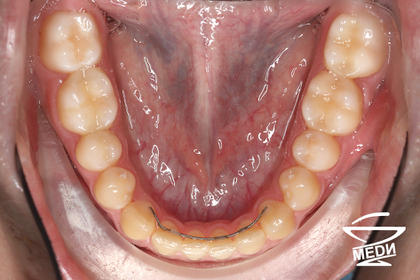LL1BC_healthy: (279, 169, 319, 210)
LL1M_healthy: (303, 73, 362, 134)
LL2BC_healthy: (293, 131, 341, 169)
LL2M_healthy: (325, 15, 384, 75)
LLCI_decay: (209, 229, 234, 261)
LLC_decay: (259, 202, 294, 239)
LLLI_decay: (234, 217, 264, 257)
LR1BC_healthy: (95, 167, 136, 208)
LR1M_healthy: (59, 68, 117, 133)
LR2BC_healthy: (76, 132, 121, 170)
LR2M_healthy: (41, 11, 100, 69)
LRCI_decay: (184, 231, 209, 261)
LRC_decay: (122, 204, 156, 240)
LRLI_decay: (153, 223, 184, 258)
